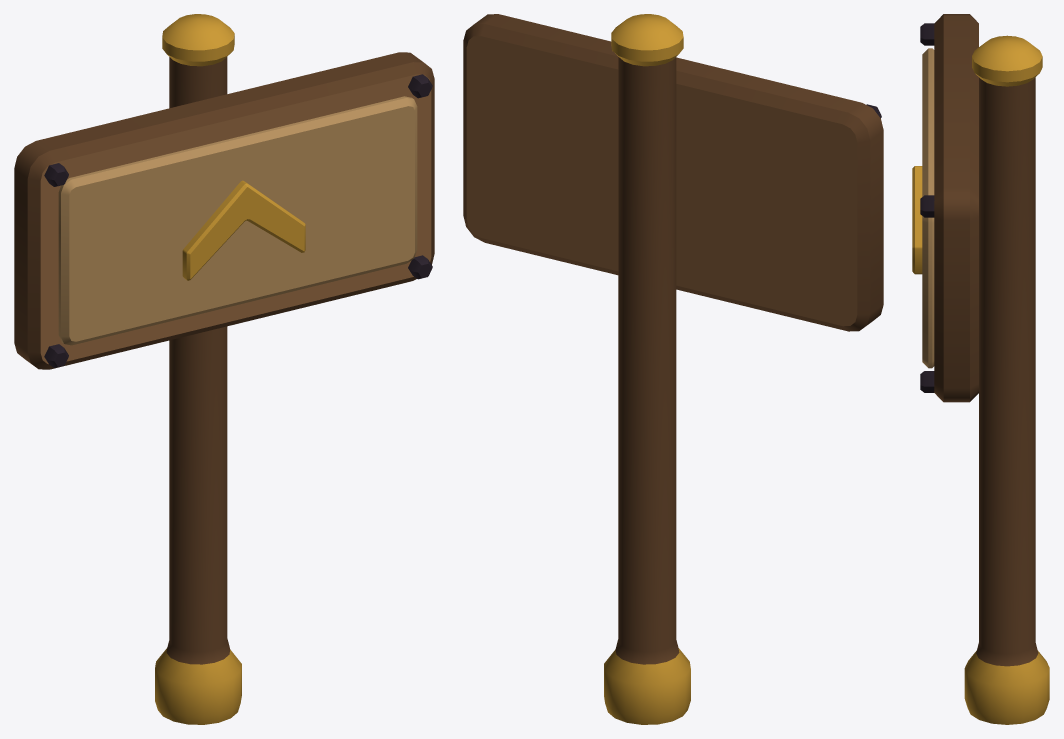
Rendered from Sign_08.glb.
3 renders of one model, left to right at view 1: azimuth 30°, elevation 25°; view 2: azimuth 150°, elevation 25°; view 3: azimuth 270°, elevation 25°, orthographic. The views are drawn at different scales.
Visible parts, largest first — view 1: Sign_08; view 2: Sign_08; view 3: Sign_08.
Part boxes in pixels (x1,y1,x2,y2): Sign_08: [14, 14, 434, 724]; Sign_08: [463, 14, 883, 724]; Sign_08: [912, 14, 1049, 724].
Size of the model in its own units: 2.25 by 3.64 by 0.68.
